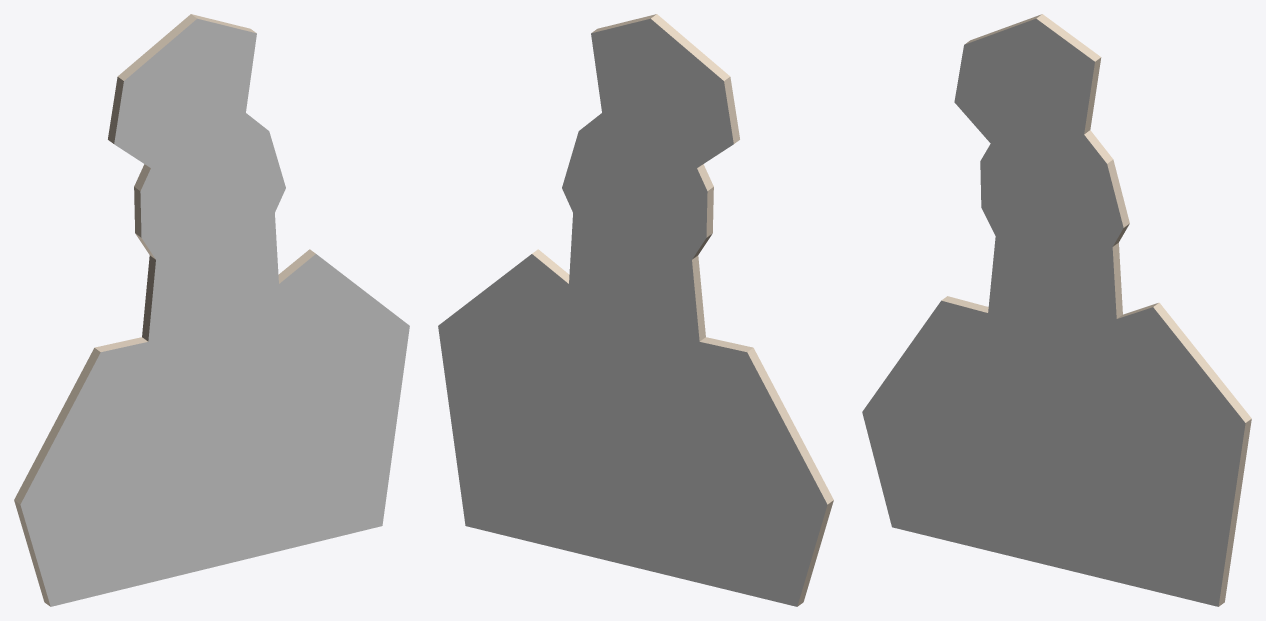
The model's file is monster5.fbx.
3 views of the same model, side by side, from view 1: azimuth 30°, elevation 25°; view 2: azimuth 150°, elevation 25°; view 3: azimuth 330°, elevation 25° (orthographic).
Parts seen in each view (by area): view 1: Monster5; view 2: Monster5; view 3: Monster5.
Part boxes in pixels (left/top/right/bottom): Monster5: left=14, top=14, right=409, bottom=606; Monster5: left=438, top=14, right=833, bottom=606; Monster5: left=862, top=14, right=1251, bottom=606.
Bounding box in the file's own units: 75.41 × 102 × 2.14.
